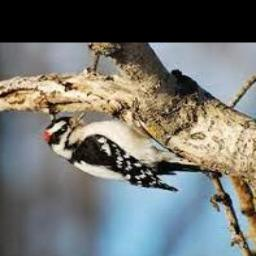Woodpecker: (45, 110, 222, 191)
